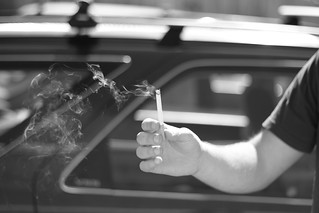cigarette: (151, 86, 169, 143)
